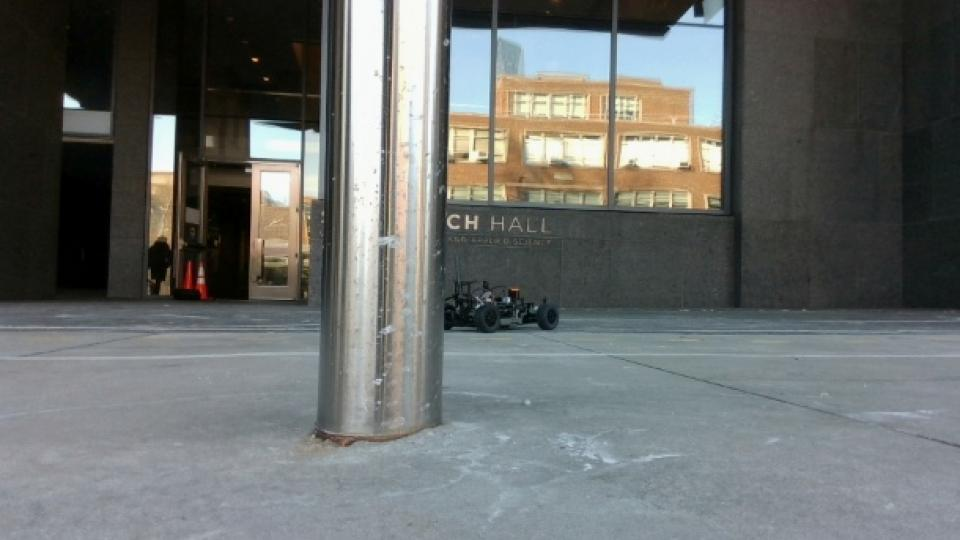car: (440, 275, 562, 336)
